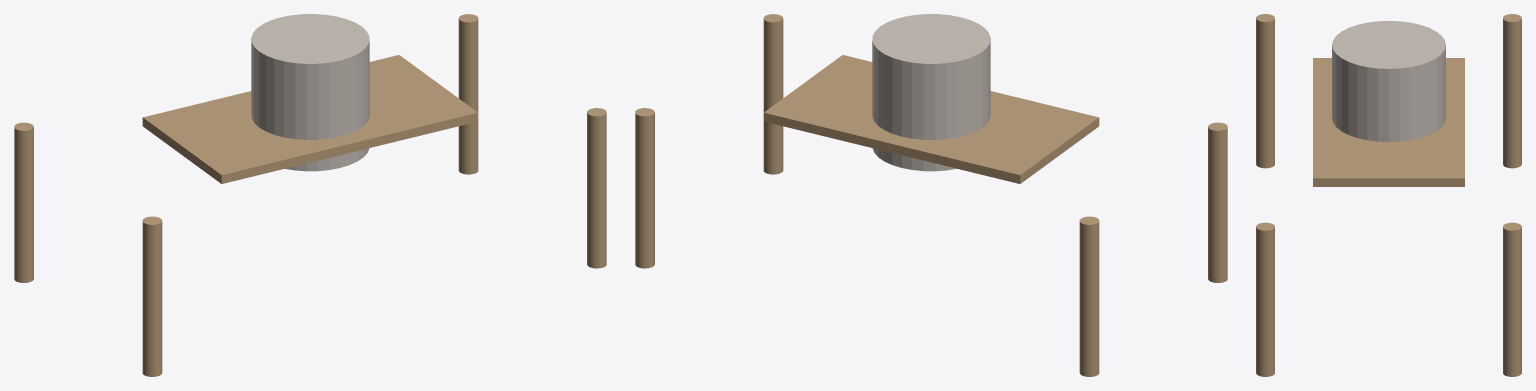
The model's file is liquid_fill.glb.
3 views of the same model, side by side, from view 1: azimuth 30°, elevation 25°; view 2: azimuth 150°, elevation 25°; view 3: azimuth 270°, elevation 25° (orthographic). The views are drawn at different scales.
Visible parts, largest first — view 1: bench_top, vessel, bench_leg_-1.3_-0.65, bench_leg_1.3_-0.65, bench_leg_-1.3_0.65, bench_leg_1.3_0.65; view 2: bench_top, vessel, bench_leg_-1.3_0.65, bench_leg_1.3_0.65, bench_leg_-1.3_-0.65, bench_leg_1.3_-0.65; view 3: vessel, bench_top, bench_leg_1.3_0.65, bench_leg_1.3_-0.65, bench_leg_-1.3_0.65, bench_leg_-1.3_-0.65.
Part boxes in pixels (<box>): bench_top: <box>142,55,478,183</box>; vessel: <box>251,14,369,171</box>; bench_leg_-1.3_-0.65: <box>142,216,162,376</box>; bench_leg_1.3_-0.65: <box>587,108,606,268</box>; bench_leg_-1.3_0.65: <box>14,122,33,282</box>; bench_leg_1.3_0.65: <box>458,14,478,174</box>; bench_top: <box>763,55,1099,183</box>; vessel: <box>872,14,990,171</box>; bench_leg_-1.3_0.65: <box>1079,216,1099,376</box>; bench_leg_1.3_0.65: <box>635,108,654,268</box>; bench_leg_-1.3_-0.65: <box>1208,122,1227,282</box>; bench_leg_1.3_-0.65: <box>763,14,783,174</box>; vessel: <box>1332,21,1445,141</box>; bench_top: <box>1313,58,1464,186</box>; bench_leg_1.3_0.65: <box>1503,222,1521,376</box>; bench_leg_1.3_-0.65: <box>1256,222,1274,376</box>; bench_leg_-1.3_0.65: <box>1503,14,1521,168</box>; bench_leg_-1.3_-0.65: <box>1256,14,1274,168</box>.
Size of the model in its own units: 2.7 by 1.3 by 1.4.
